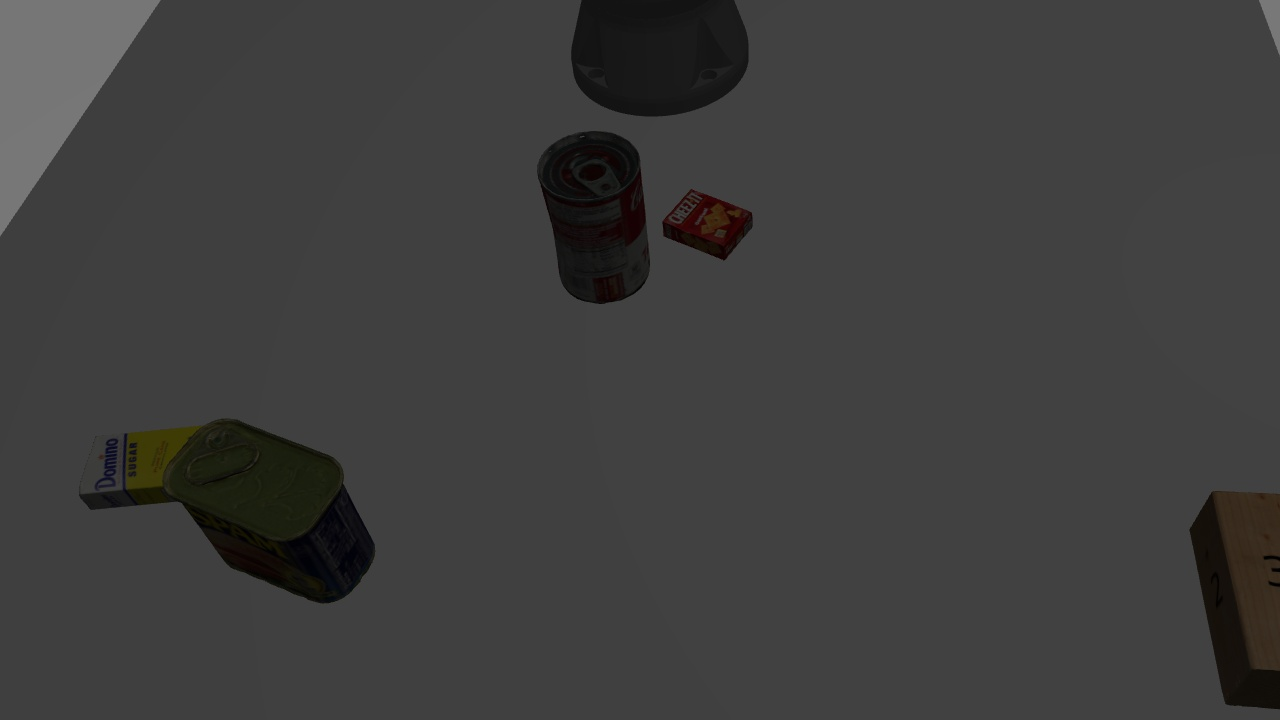cracker_box: (663, 187, 758, 265)
potted_meat_can: (160, 416, 380, 605)
sugar_box: (72, 426, 221, 506), (79, 427, 109, 429)
tomato_soup_can: (530, 126, 657, 314)
wood_block: (1183, 480, 1277, 712)
